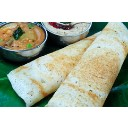dosa: (9, 22, 128, 110)
